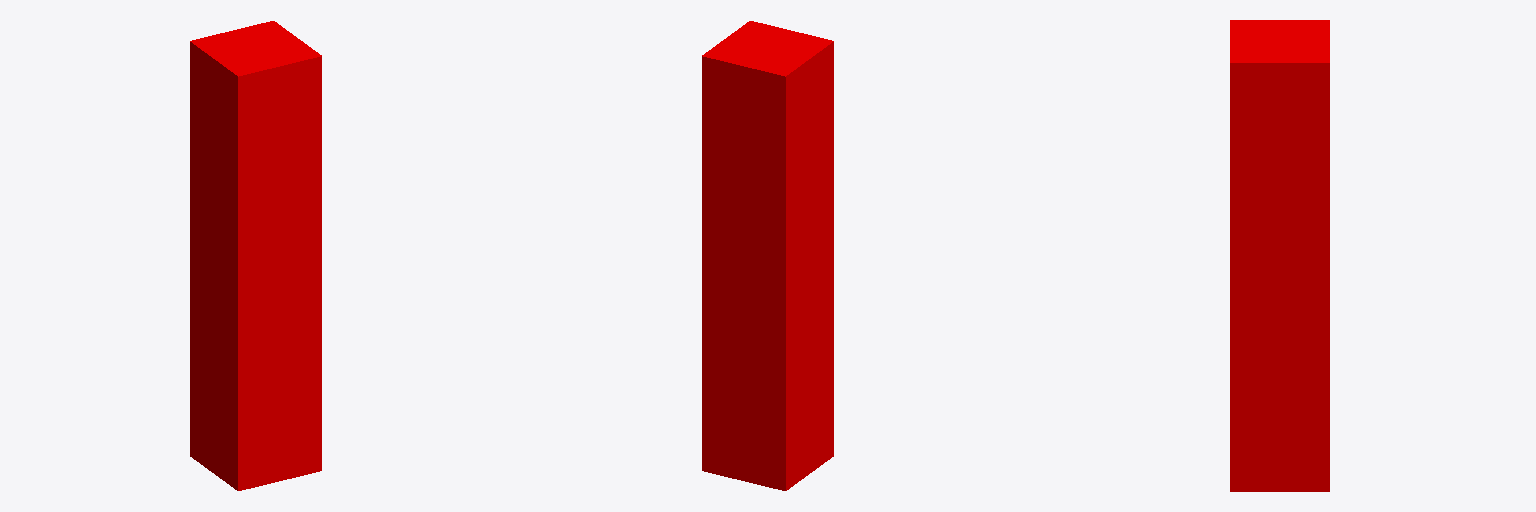
robot.urdf — stick:
<?xml version="1.0" ?>
<robot name="stick">
  <link name="baseLink">
    <contact>
      <lateral_friction value="1.0"/>
      <rolling_friction value="1.0"/>
      <spinning_friction value="1.0"/>
      <!--contact_cfm value="0.0"/-->
      <!--contact_erp value="1.0"/-->
    </contact>
    <inertial>
      <origin rpy="0 0 0" xyz="0 0 0"/>
       <mass value="1.0"/>
       <inertia ixx="1" ixy="0" ixz="0" iyy="1" iyz="0" izz="1"/>
    </inertial>
    <visual>
      <origin rpy="0 0 0" xyz="0 0 0"/>
      <geometry>
		  <box size="0.017 0.017 0.08"/>
      </geometry>
       <material name="red">
        <color rgba="1 0 0 1"/>
      </material>
    </visual>
    <collision>
      <origin rpy="0 0 0" xyz="0 0 0"/>
      <geometry>
	 	  <box size="0.017 0.017 0.08"/>
      </geometry>
    </collision>
  </link>
</robot>

--- Render facts (derived) ---
3 views of the same robot in one strip: view 1: azimuth 30°, elevation 25°; view 2: azimuth 150°, elevation 25°; view 3: azimuth 270°, elevation 25° (orthographic).
Robot: stick — 1 links, 0 joints (none); root link baseLink; default pose: all joints at 0.
Visible links, largest first — view 1: baseLink; view 2: baseLink; view 3: baseLink.
Link boxes in pixels (bbox=[...]): baseLink: bbox=[190, 21, 321, 490]; baseLink: bbox=[702, 21, 833, 490]; baseLink: bbox=[1230, 20, 1329, 491].
Size in the robot's own frame: 0.017 by 0.017 by 0.08 metres.
Geometry: primitives only (box / cylinder / sphere), no mesh files.
